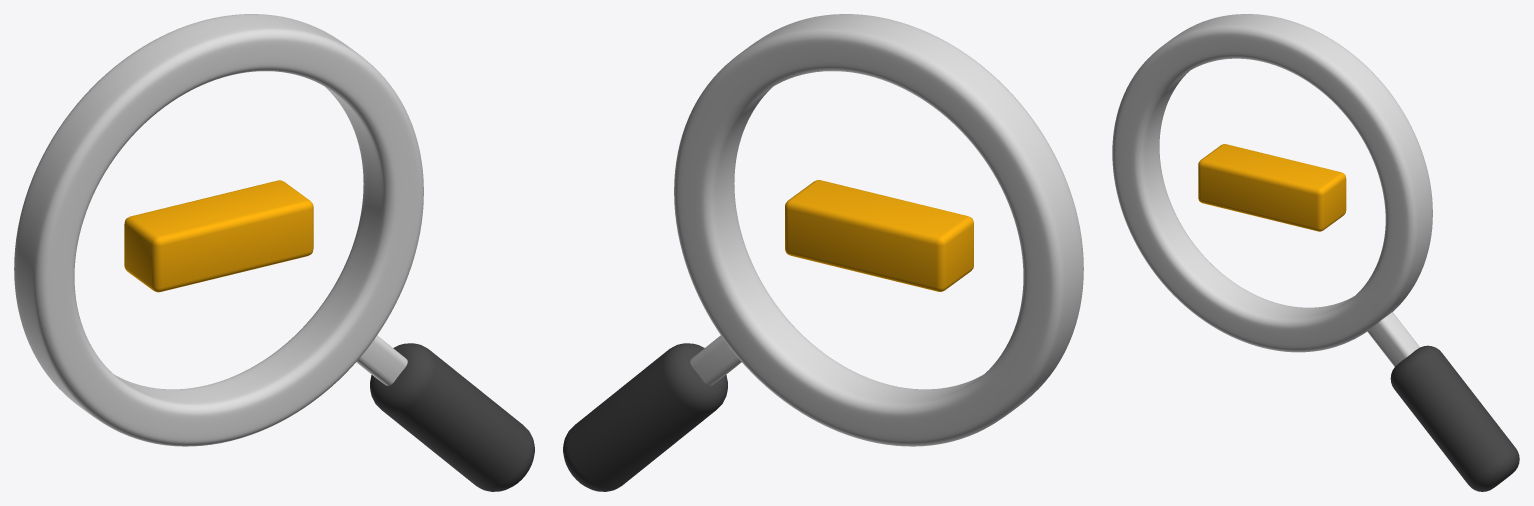
The model's file is zoom-out-animated-3d-icon-1177930137533.glb.
3 views of the same model, side by side, from view 1: azimuth 30°, elevation 25°; view 2: azimuth 150°, elevation 25°; view 3: azimuth 330°, elevation 25° (orthographic). The views are drawn at different scales.
Parts seen in each view (by area): view 1: Frame.001, Zoom Out Icon, Handle.001; view 2: Frame.001, Zoom Out Icon, Handle.001; view 3: Frame.001, Handle.001, Zoom Out Icon.
Boxes of the visible parts, bbox=[...] form: Frame.001: bbox=[14, 14, 423, 446]; Zoom Out Icon: bbox=[124, 180, 313, 292]; Handle.001: bbox=[370, 343, 534, 491]; Frame.001: bbox=[674, 14, 1083, 446]; Zoom Out Icon: bbox=[785, 180, 973, 291]; Handle.001: bbox=[563, 343, 727, 491]; Frame.001: bbox=[1112, 14, 1432, 366]; Handle.001: bbox=[1390, 345, 1519, 491]; Zoom Out Icon: bbox=[1198, 144, 1346, 231].
Bounding box in the file's own units: 1.55 × 1.55 × 0.2044.
